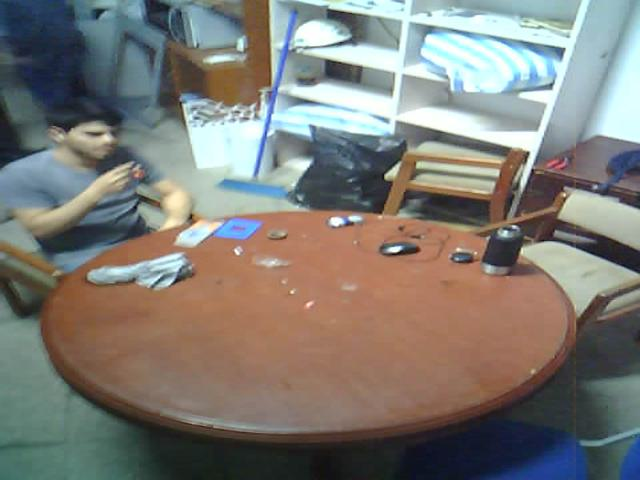person: (0, 113, 208, 289), (0, 3, 112, 119)
